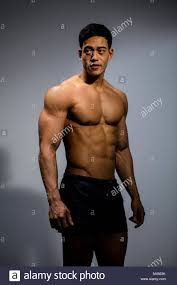asian_male: (74, 11, 120, 80)
